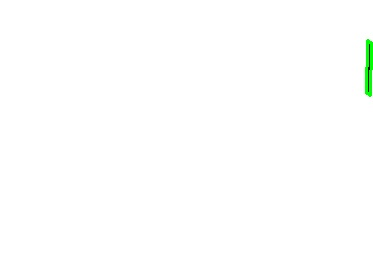line_segment: (366, 40, 372, 96)
